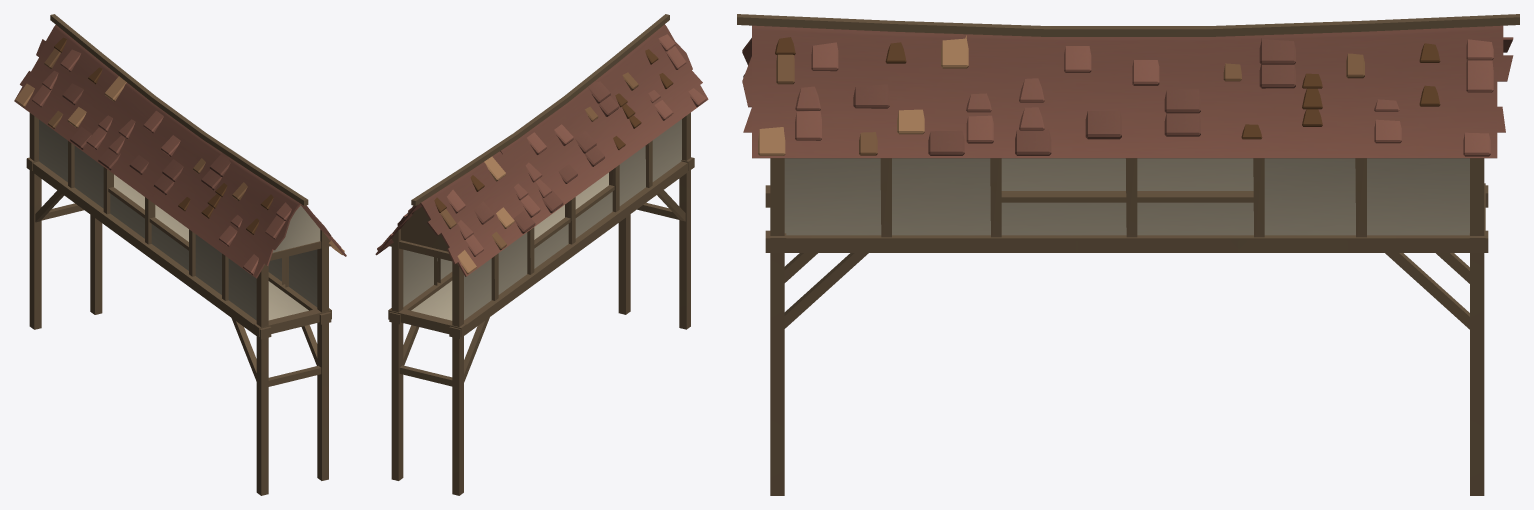
The model's file is ZLP_Build_B_15.FBX.
3 renders of one model, left to right at view 1: azimuth 30°, elevation 25°; view 2: azimuth 150°, elevation 25°; view 3: azimuth 270°, elevation 25°, orthographic. The views are drawn at different scales.
Visible parts, largest first — view 1: ZLP_Build_B_15; view 2: ZLP_Build_B_15; view 3: ZLP_Build_B_15.
Part boxes in pixels (x1,y1,x2,y2): ZLP_Build_B_15: (14,14,346,495); ZLP_Build_B_15: (375,14,708,495); ZLP_Build_B_15: (737,14,1519,495).
Bounding box in the file's own units: 207 × 622 × 969.
